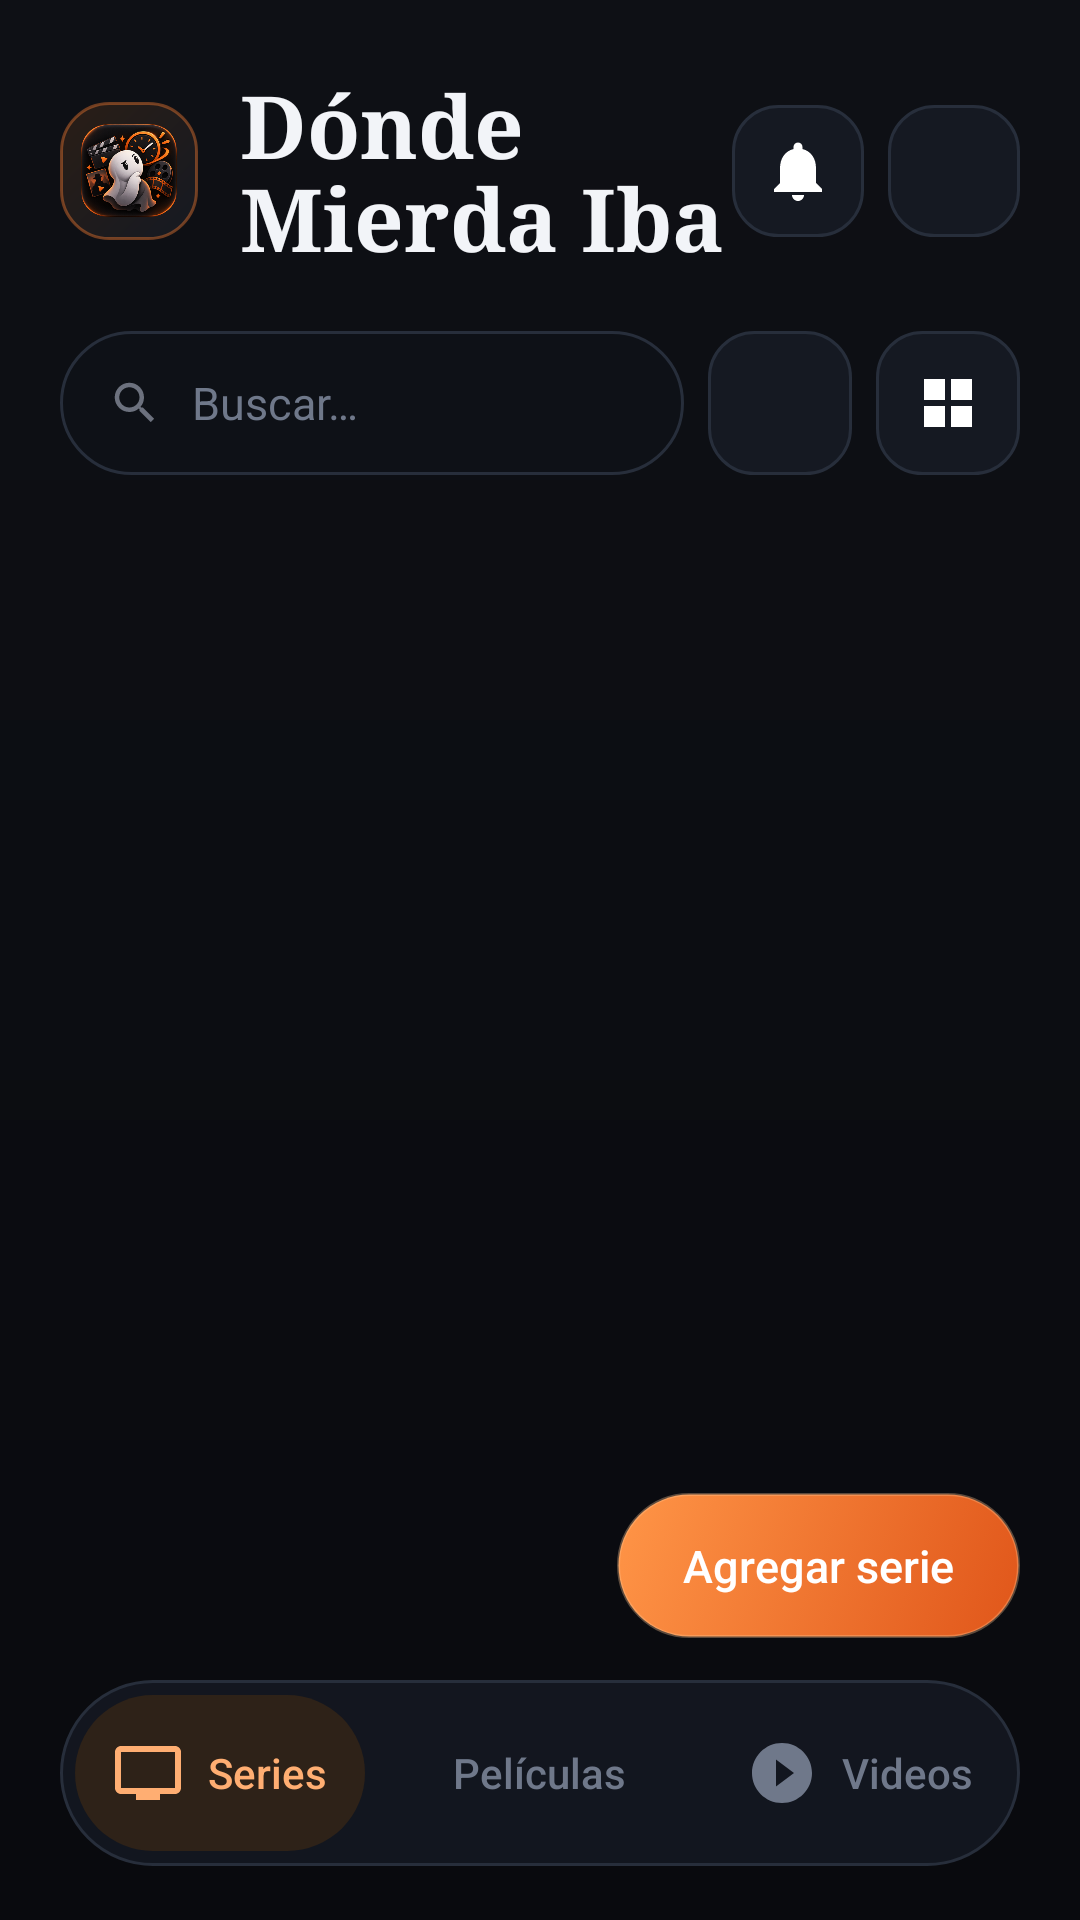

Icons on this 1080x1920 Android screen, each with the point to tap as point (x, y):
Avisos recientes: point (798, 171)
search: point (134, 402)
Ver en cuadrícula: point (948, 403)
